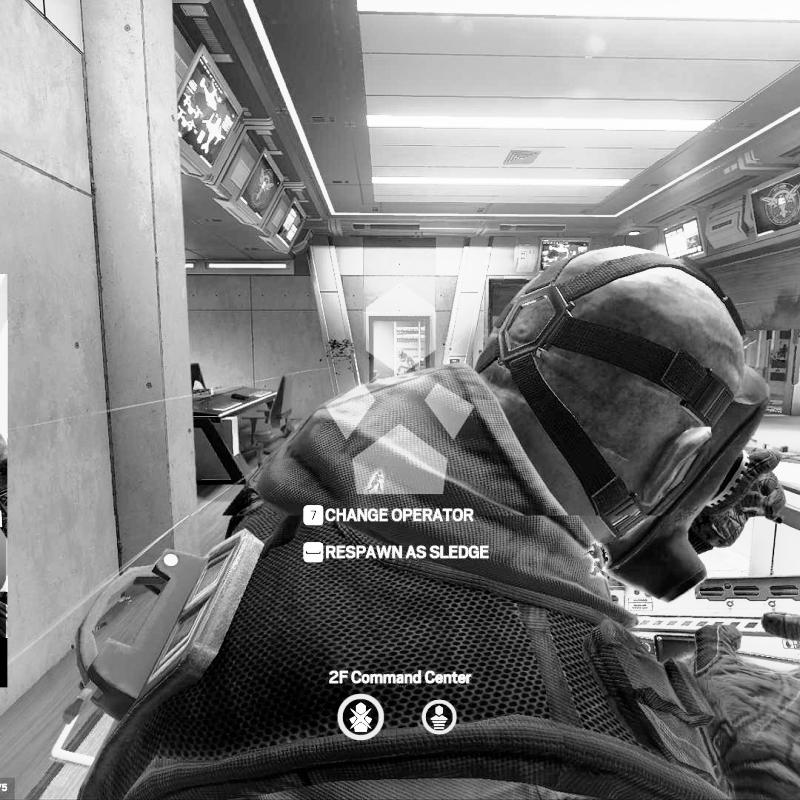Character: (57, 241, 797, 800), (395, 348, 417, 376)
Head: (494, 246, 766, 592), (396, 348, 405, 358)
